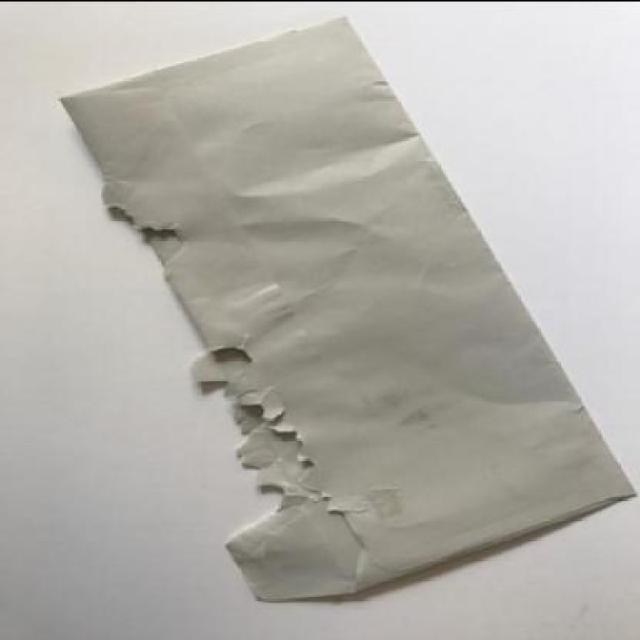PAPER: (58, 15, 637, 599)
